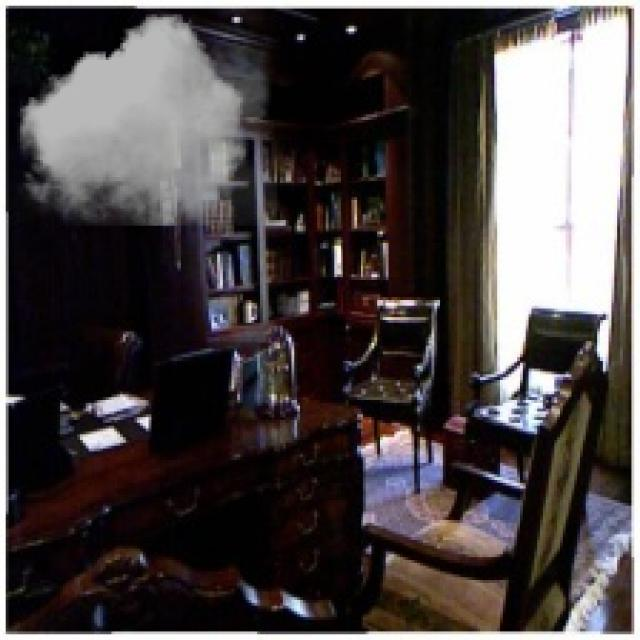Smoke: (14, 14, 277, 226)
